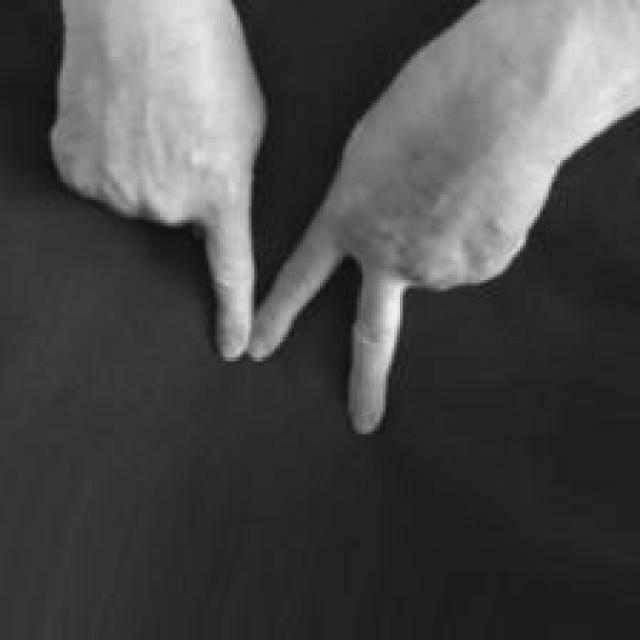N: (45, 4, 640, 439)
